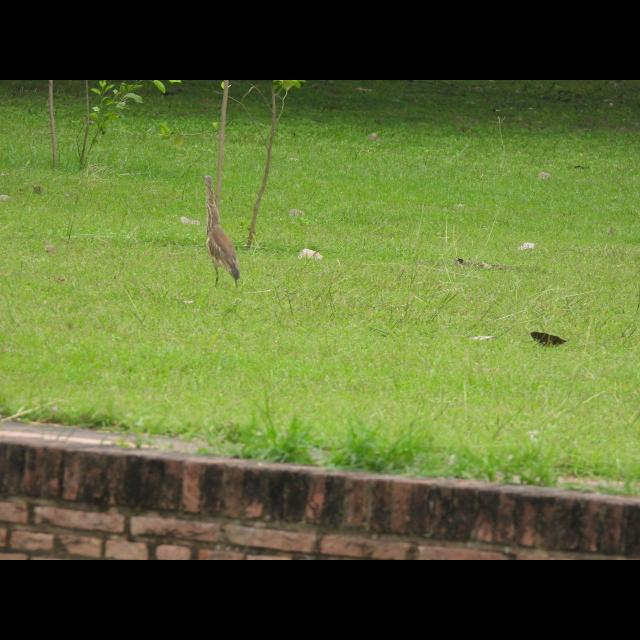heron: (198, 172, 245, 288)
